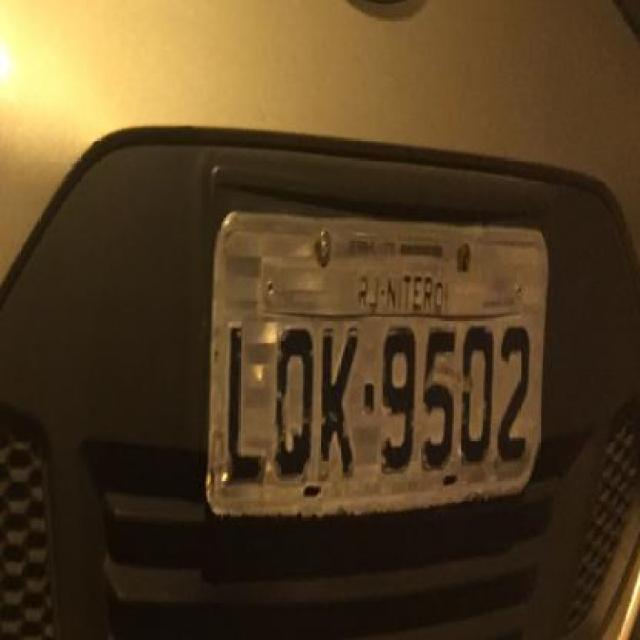old_plate: (197, 203, 566, 528)
